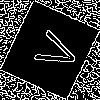V: (25, 25, 82, 75)
